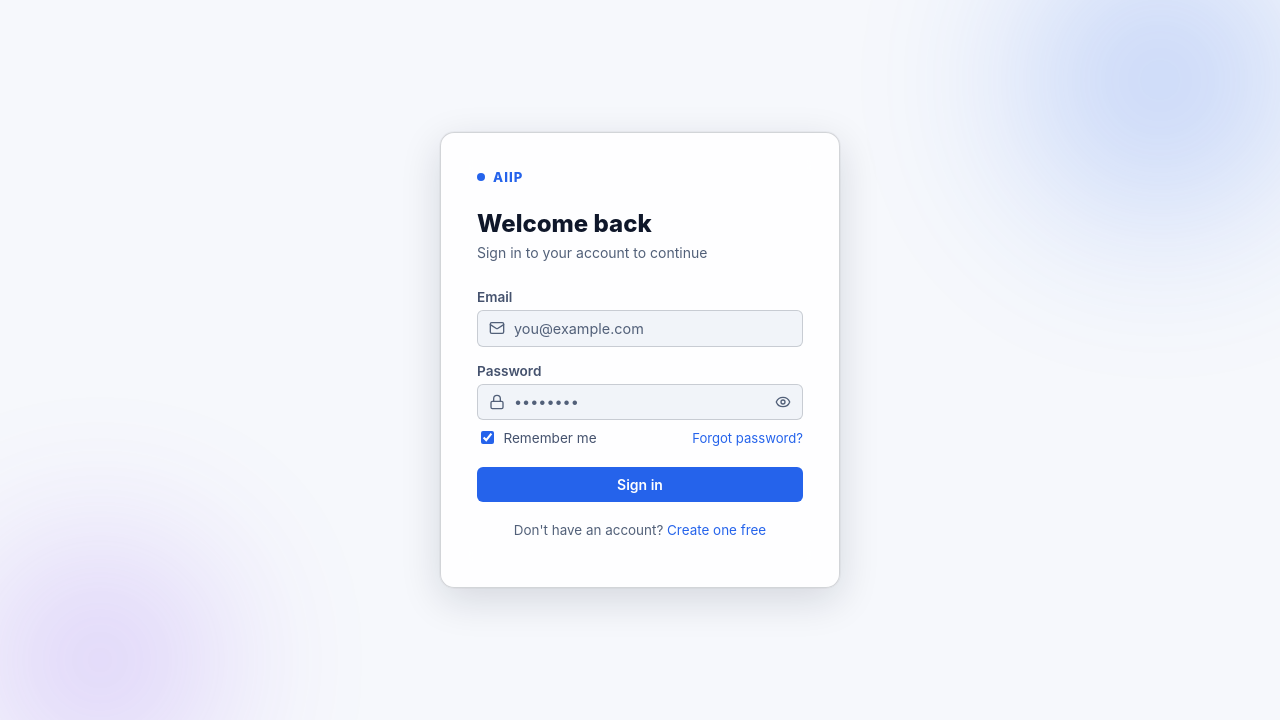
Test: LoginPage › shows the backend's actual error message when the account is locked (423)
In the field labelled "Email": x=640, y=328 [477,310,803,347], type "jane@example.com"
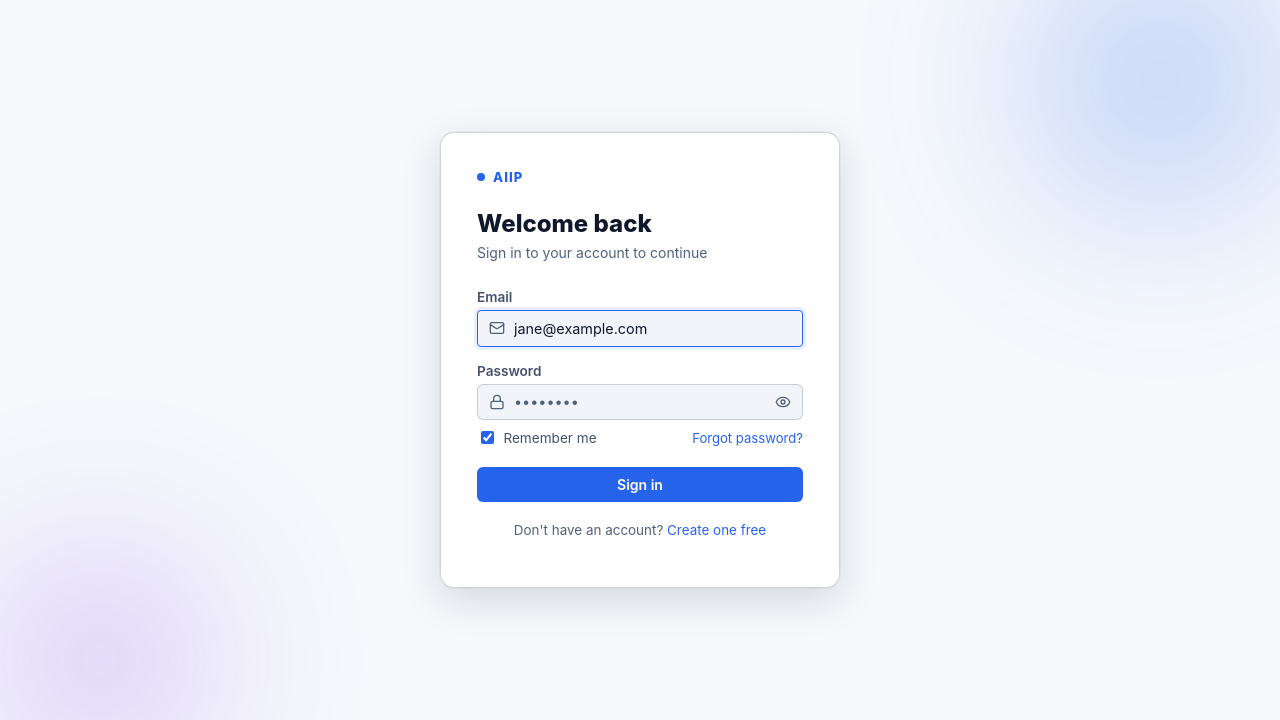
In the password field labelled "Password": x=640, y=402 [477,384,803,420], type "password123"
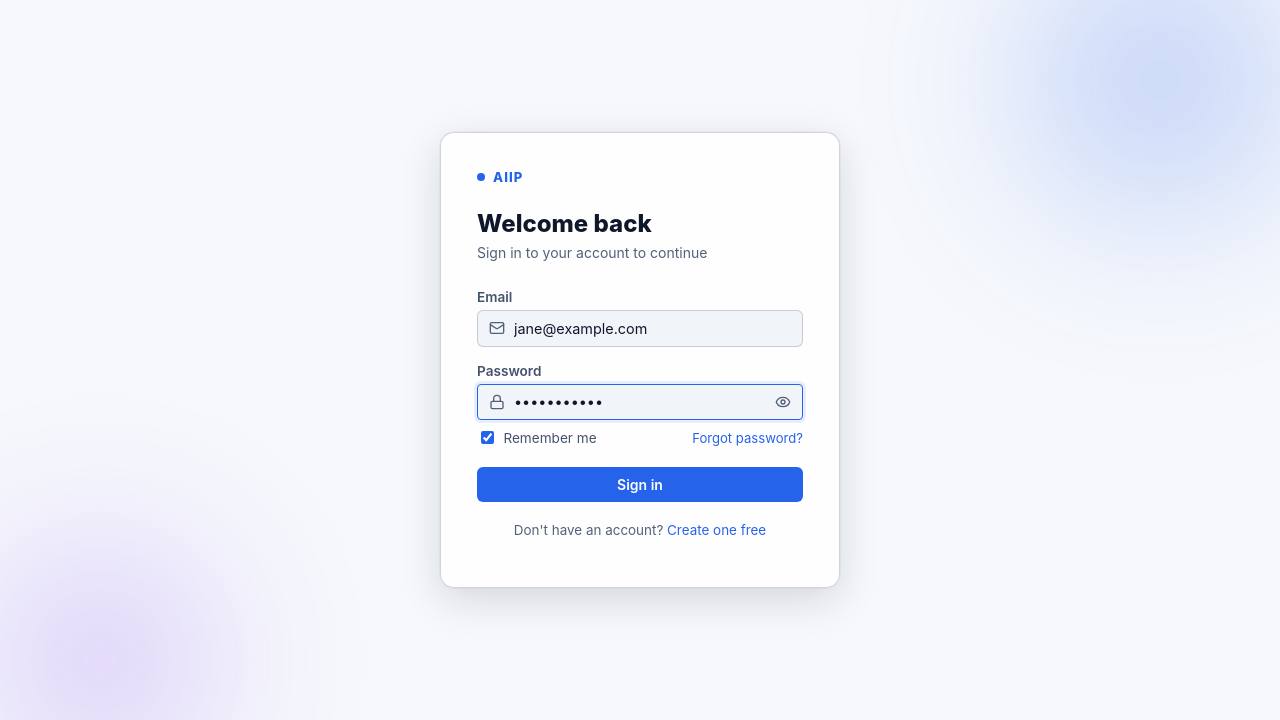
Click the button "Sign in": x=640, y=484 [477,467,803,502]
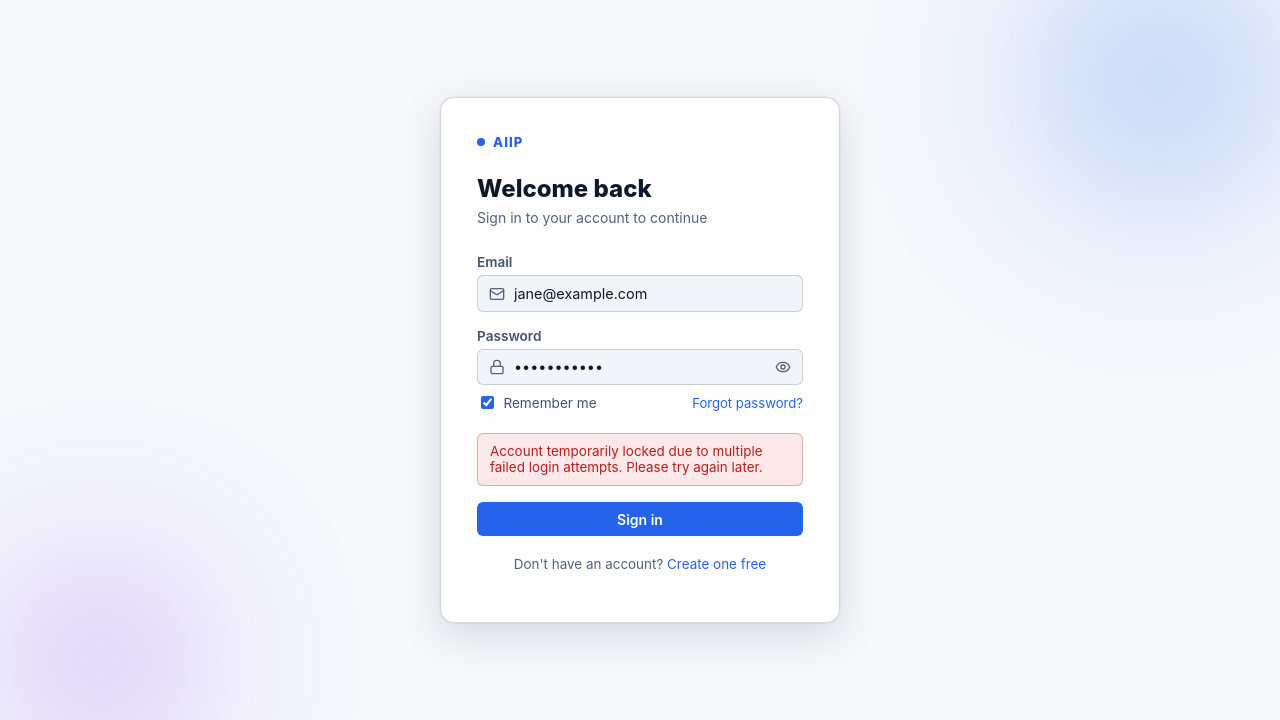
Check: the message shows "temporarily locked", box [490,443,763,475]
